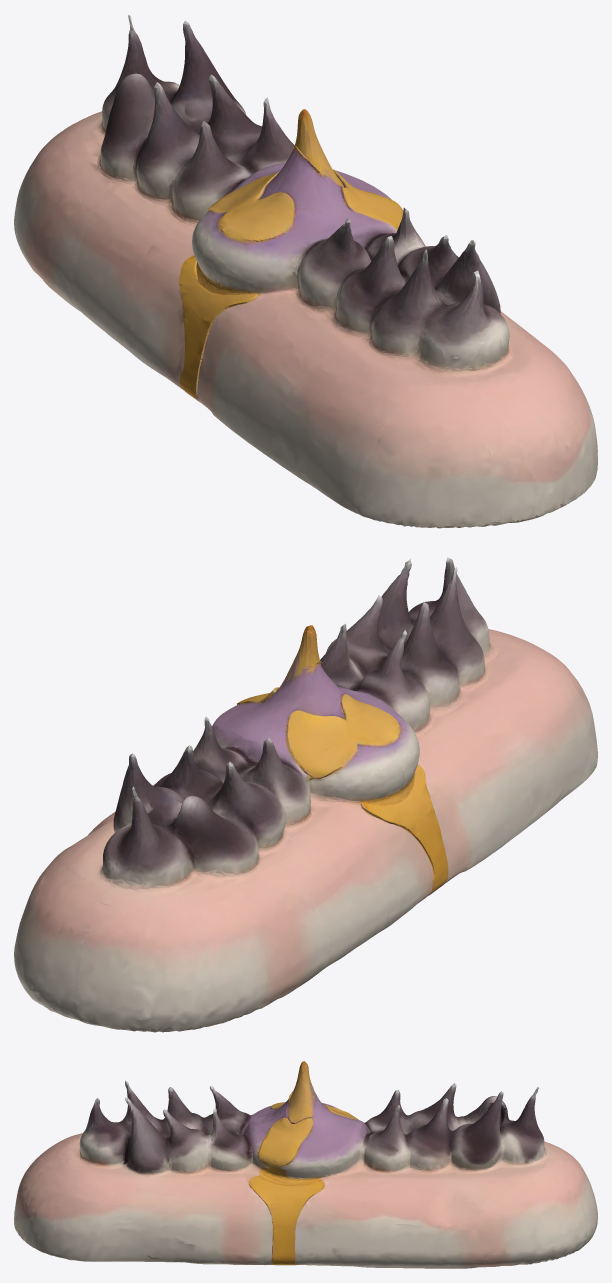
File: 06_3_yellowdot_eclair1_sculpture.glb
The picture shows the model from 3 angles, top to bottom: view 1: azimuth 30°, elevation 25°; view 2: azimuth 150°, elevation 25°; view 3: azimuth 270°, elevation 25°; orthographic projection. The views are drawn at different scales.
Parts seen in each view (by area): view 1: exlair1.001; view 2: exlair1.001; view 3: exlair1.001.
Boxes of the visible parts, x1,y1,x2,y2 form: exlair1.001: (14, 14, 597, 528); exlair1.001: (14, 557, 597, 1032); exlair1.001: (14, 1061, 597, 1268).
Size of the model in its own units: 0.0445 by 0.0389 by 0.125.
1 material, 1 textured.
